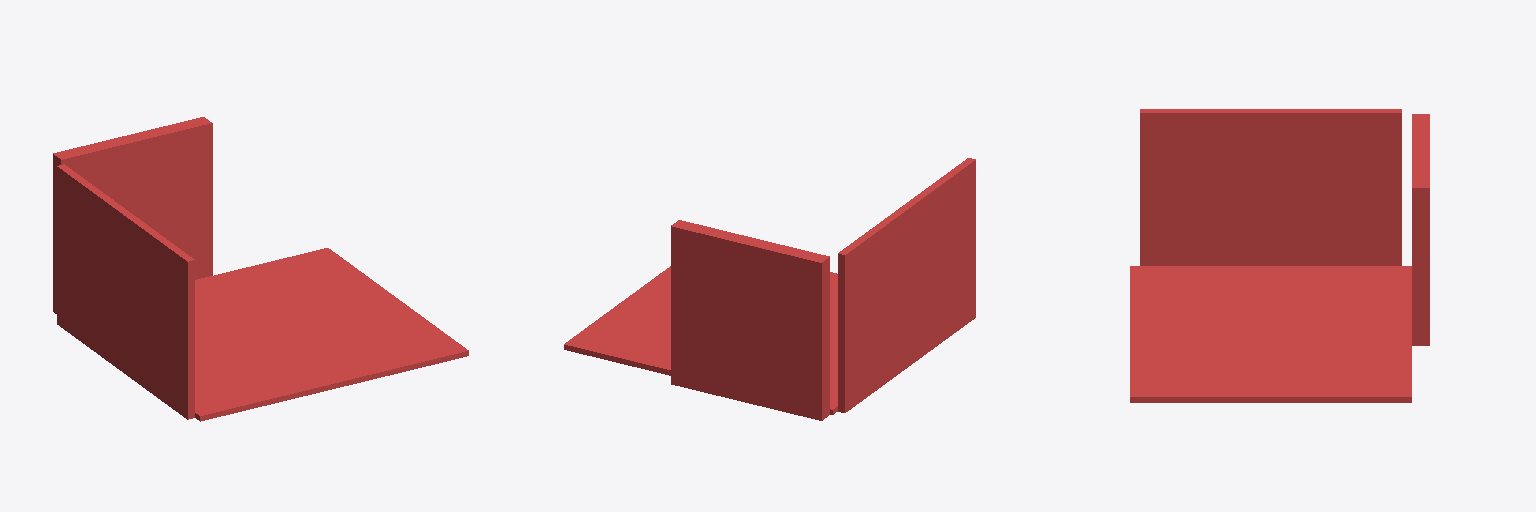
File: env.obj
3 views of the same model, side by side, from view 1: azimuth 30°, elevation 25°; view 2: azimuth 150°, elevation 25°; view 3: azimuth 270°, elevation 25° (orthographic).
Visible parts, largest first — view 1: Box002; view 2: Box002; view 3: Box002.
Part boxes in pixels (bbox=[...]): Box002: bbox=[53, 117, 468, 421]; Box002: bbox=[564, 158, 975, 420]; Box002: bbox=[1130, 109, 1429, 402].
Size of the model in its own units: 183 by 100 by 172.